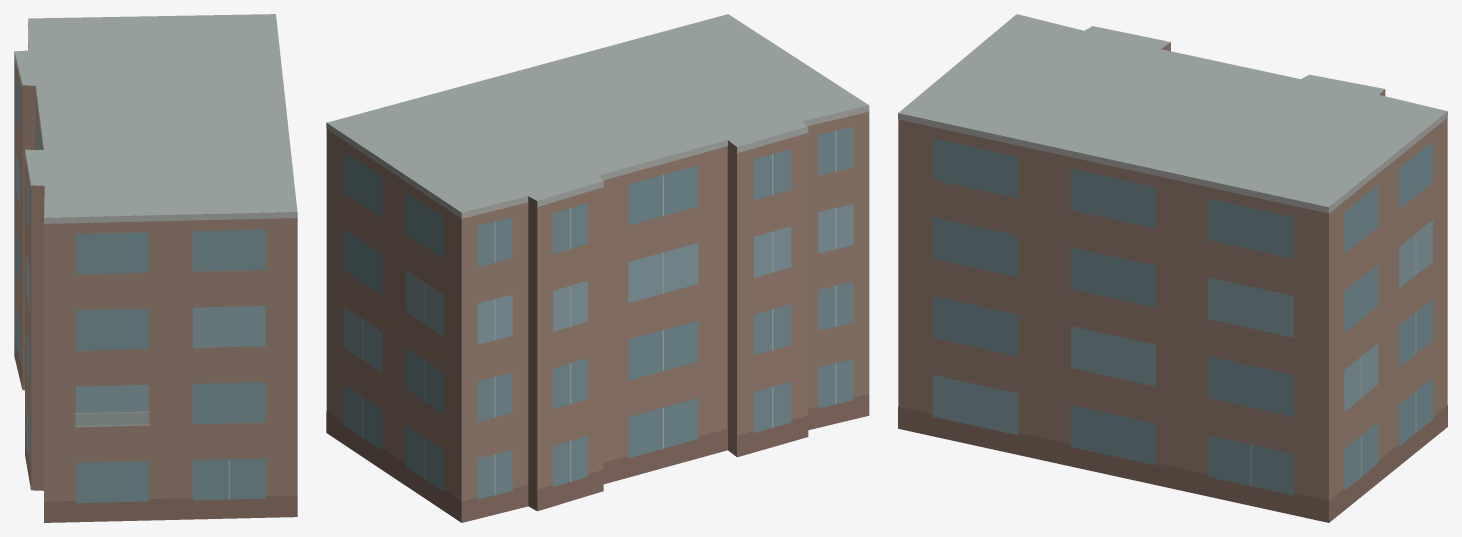
File: survey-upis-33042851.glb
3 renders of one model, left to right at view 1: azimuth 30°, elevation 25°; view 2: azimuth 150°, elevation 25°; view 3: azimuth 270°, elevation 25°, orthographic. The views are drawn at different scales.
Parts seen in each view (by area): view 1: survey-upis-33042851.tmp; view 2: survey-upis-33042851.tmp; view 3: survey-upis-33042851.tmp.
Boxes of the visible parts, <box> form: survey-upis-33042851.tmp: <box>14,14,297,522</box>; survey-upis-33042851.tmp: <box>326,14,869,522</box>; survey-upis-33042851.tmp: <box>898,14,1447,522</box>.
Size of the model in its own units: 16.03 by 12.2 by 19.27.
